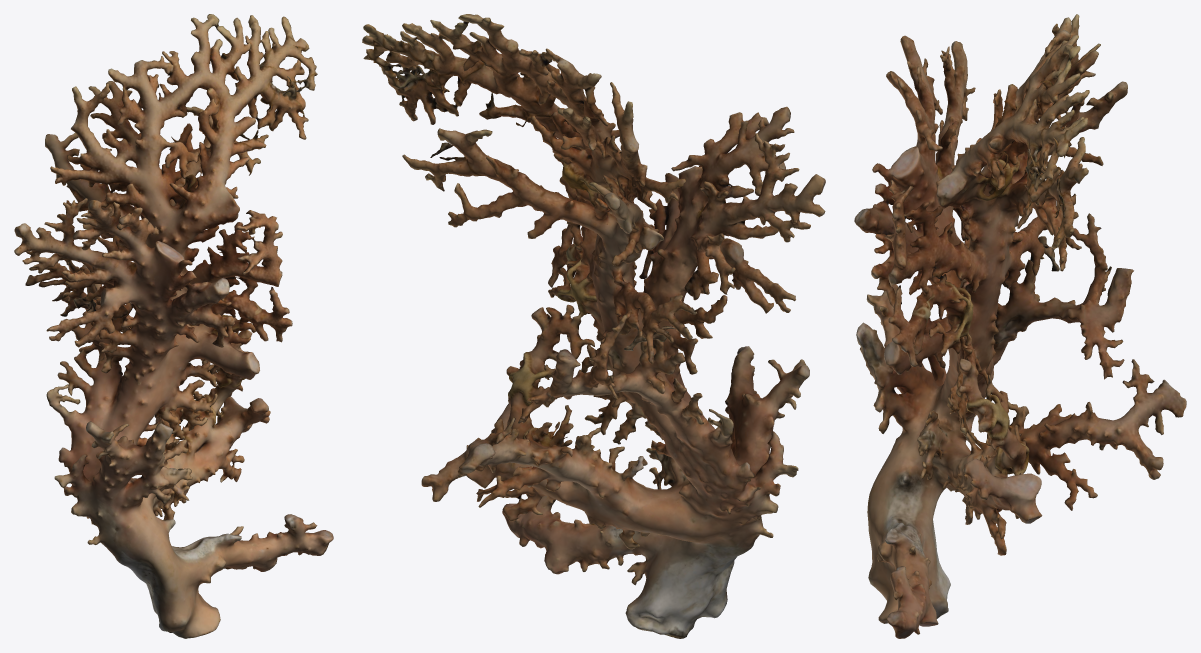
Rendered from usnm_1122540-150k.obj.
3 views of the same model, side by side, from view 1: azimuth 30°, elevation 25°; view 2: azimuth 150°, elevation 25°; view 3: azimuth 270°, elevation 25° (orthographic). The views are drawn at different scales.
Size of the model in its own units: 0.1076 by 0.1631 by 0.0779.
Materials: 1 (1 with a texture image).
